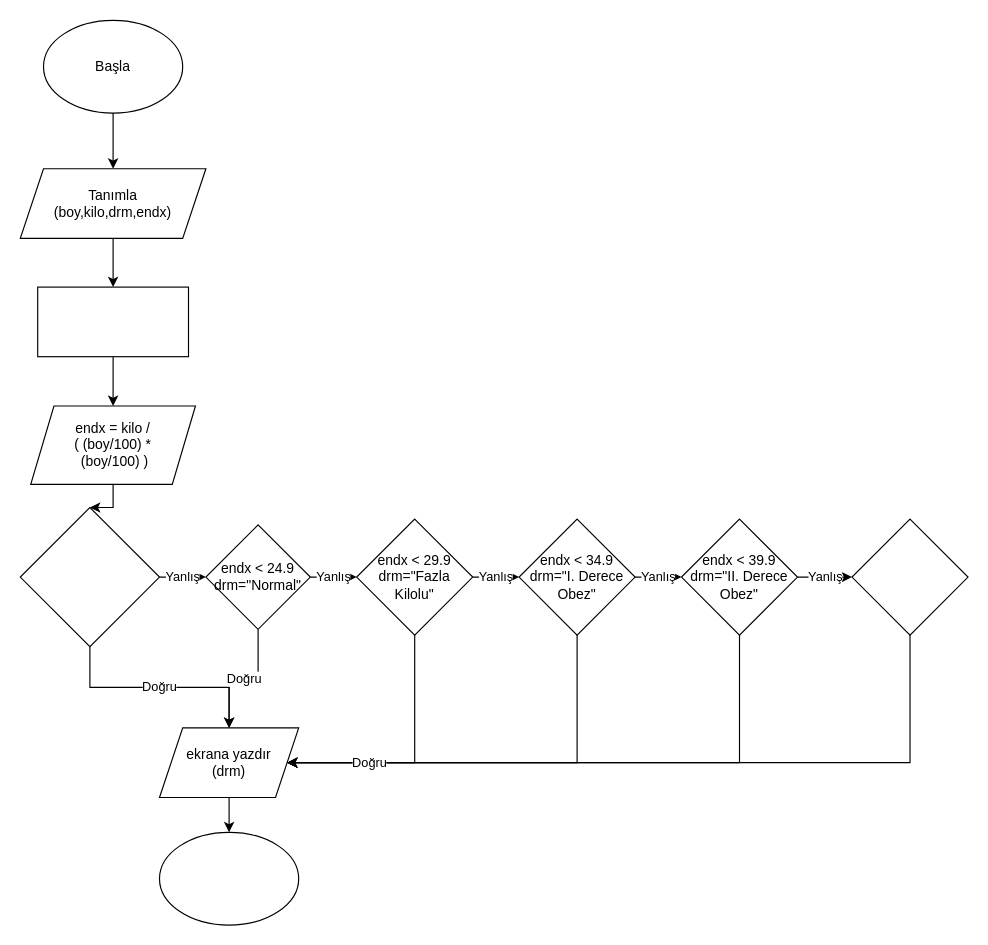
Some shapes in this 988 by 945 pixel diagram are drawn without their labels. The shapes that lost their labels are listed below. From the top down, each one's centre as x and y in pixels, then its label:
(112,321): Kullanıcıdan Veri Al (kilo, boy(cm) )
(89,576): endx < 18.5 drm="Zayıf"
(909,576): endx > 40 drm="III. Derece Obez"
(228,878): Bitir
